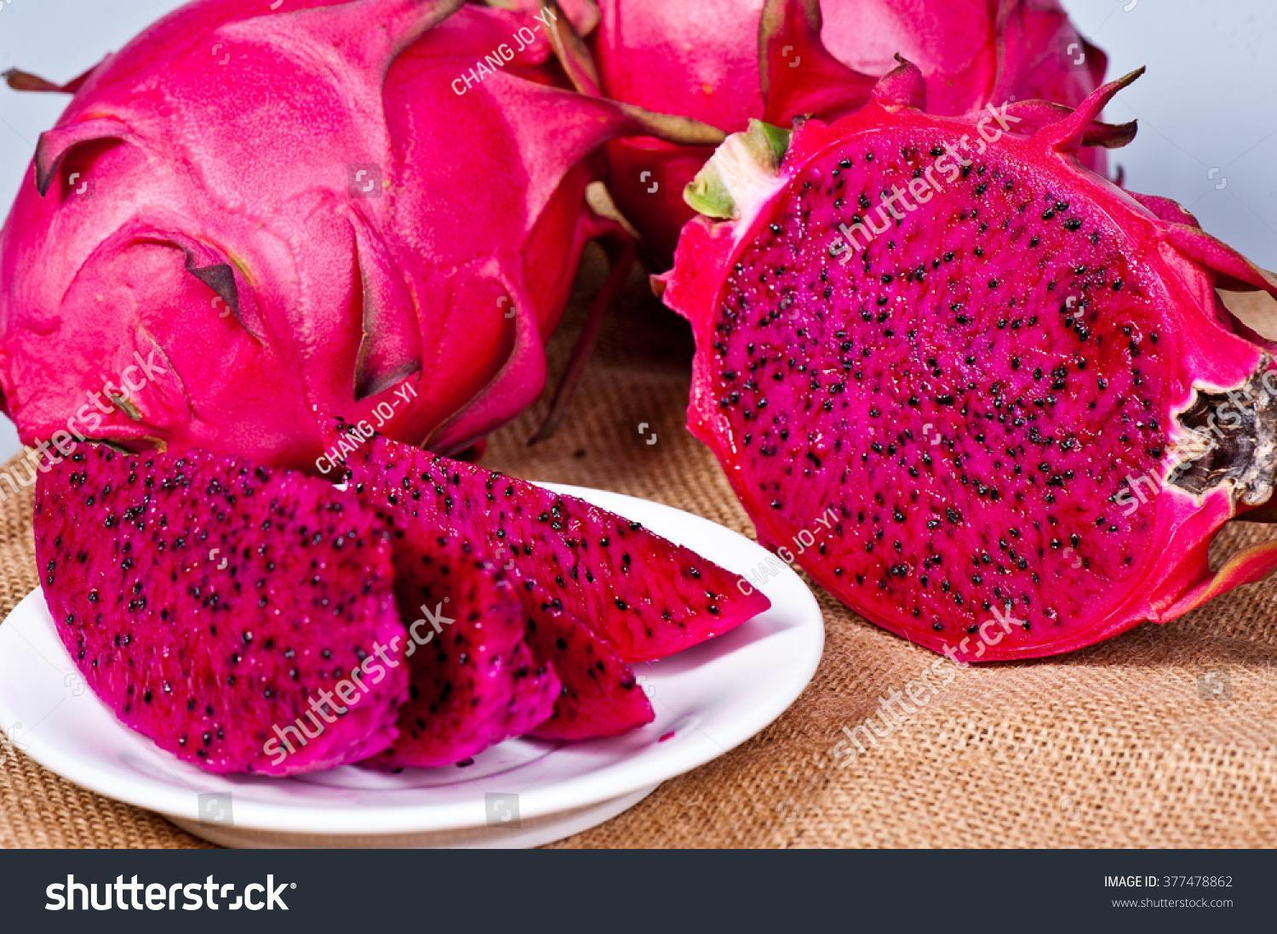dragon-fruit: (689, 111, 1218, 665), (0, 0, 591, 486), (591, 0, 1112, 267), (29, 437, 414, 782), (313, 410, 776, 668), (342, 479, 565, 773), (495, 555, 659, 746)
